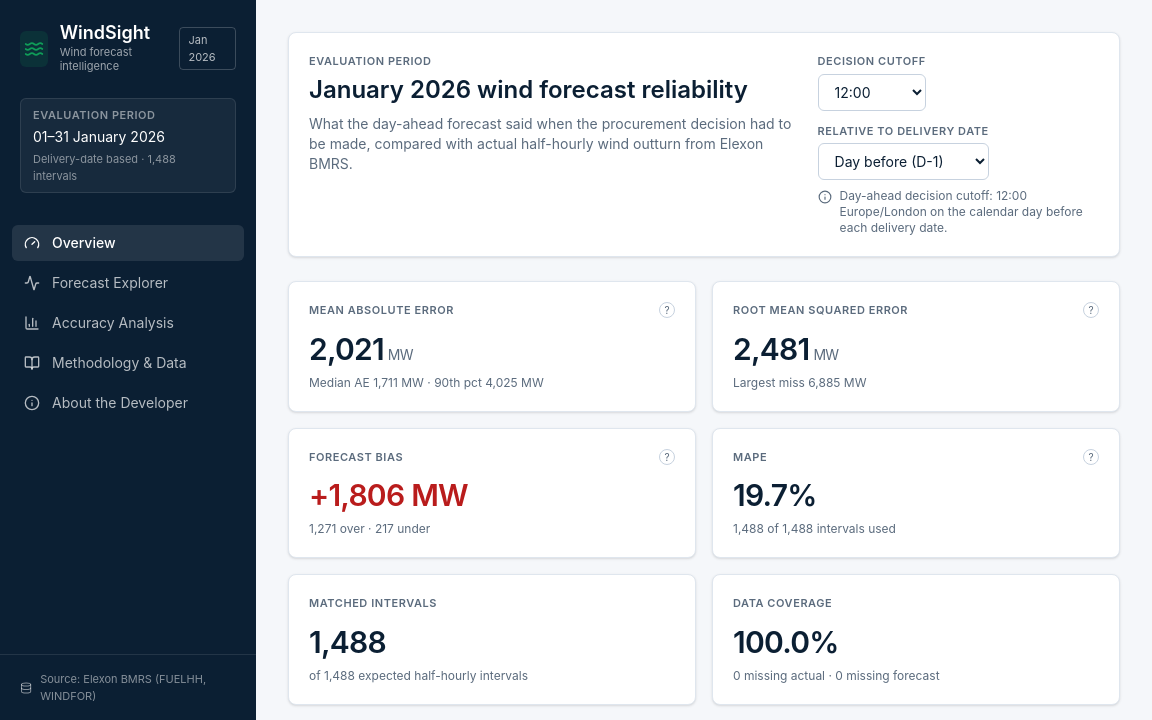
Test: Application shell › navigates to the forecast explorer
Check: the heading "Mean absolute error" is shown, box [309, 302, 454, 318]
Click the link "Forecast Explorer": (96, 282) [24, 274, 168, 291]
(page scrolled)
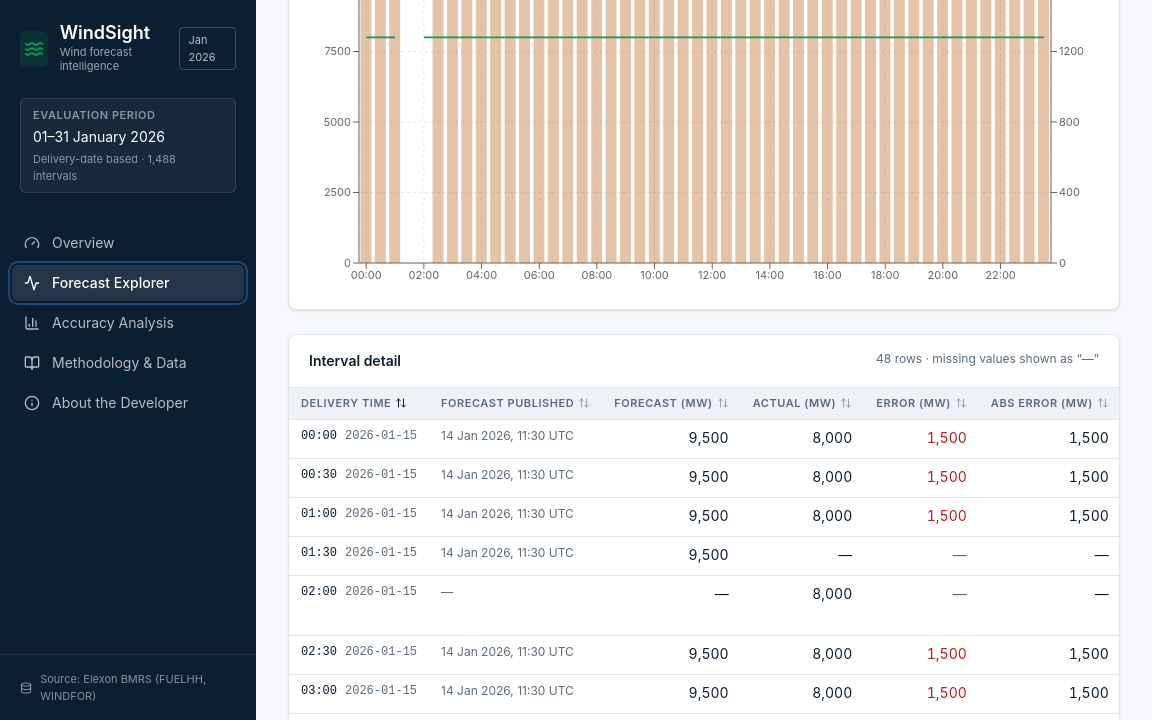
Check: the heading "Interval detail" is shown, box [309, 350, 401, 370]
